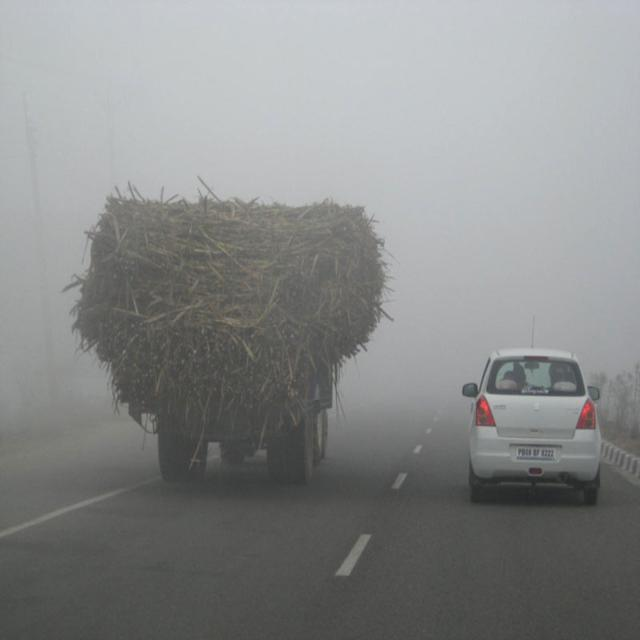bus: (153, 183, 331, 474)
car: (465, 348, 601, 502)
